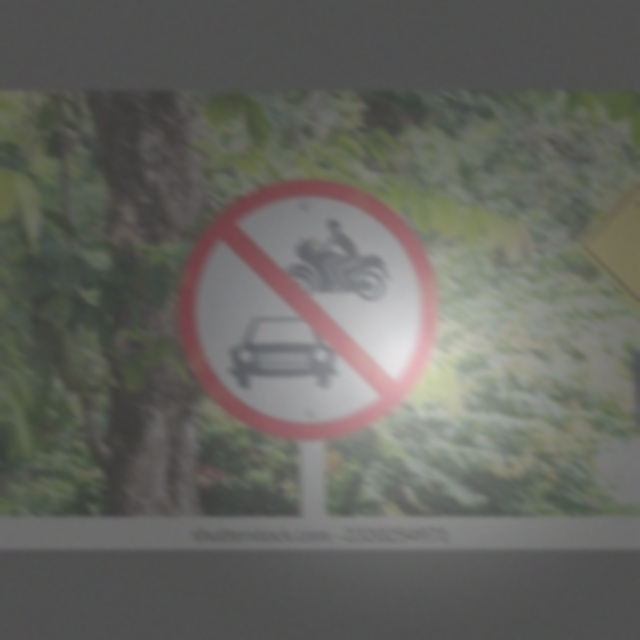All_Motor_Vehicles_Prohibited: (181, 182, 431, 432)
